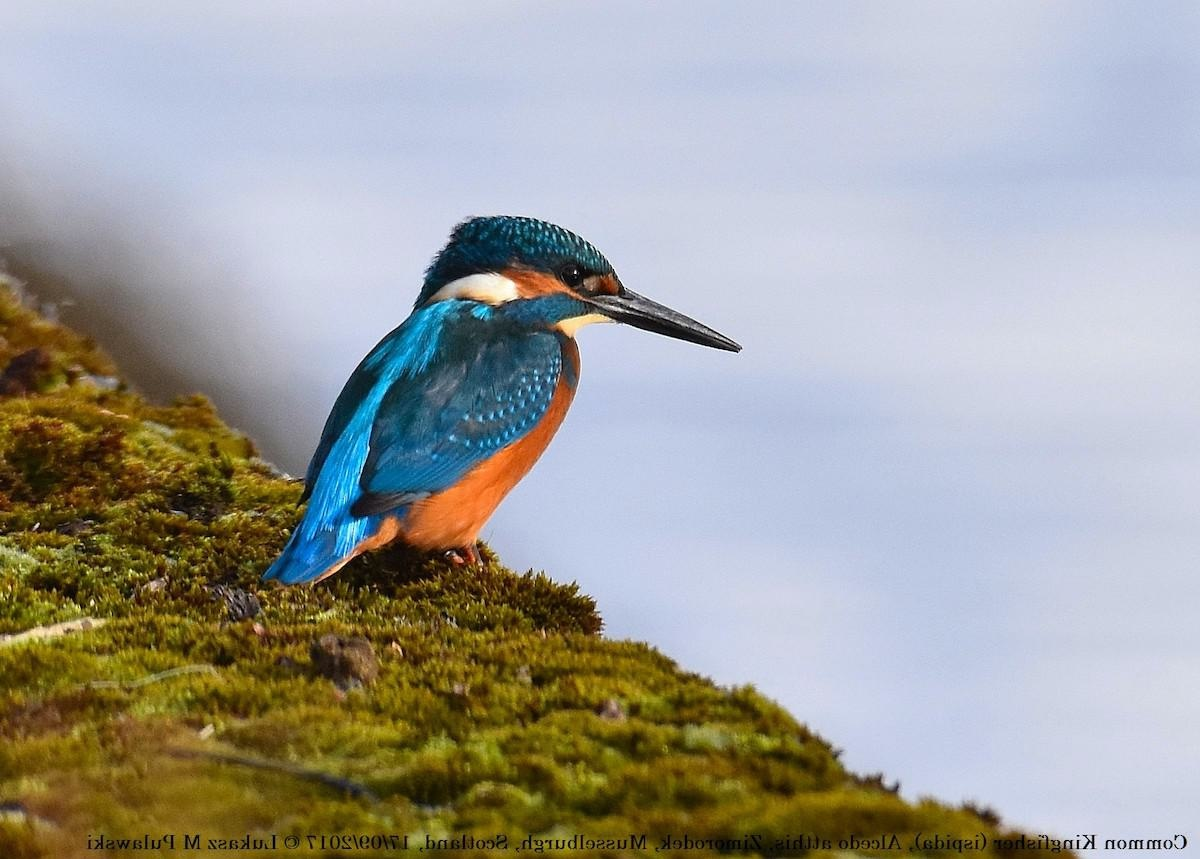kingfisher: (315, 178, 782, 601)
